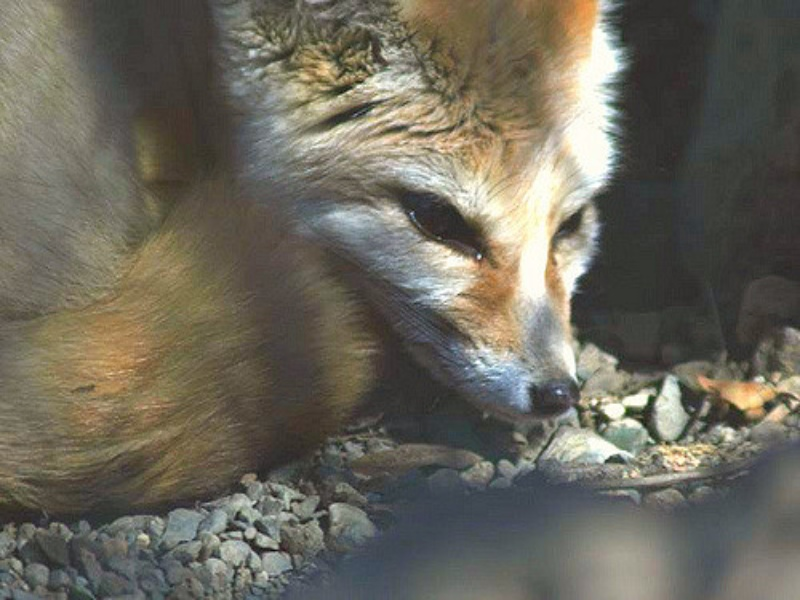fox: (1, 5, 629, 523)
